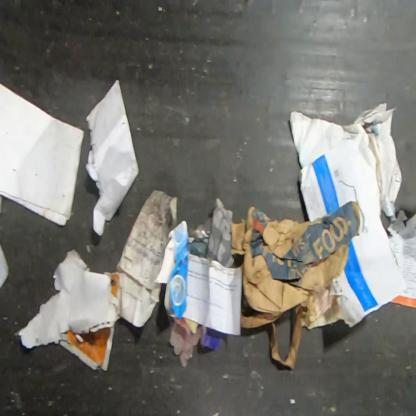cardboard: (114, 188, 180, 328), (154, 219, 190, 320)
soft_plastic: (168, 317, 202, 368)
